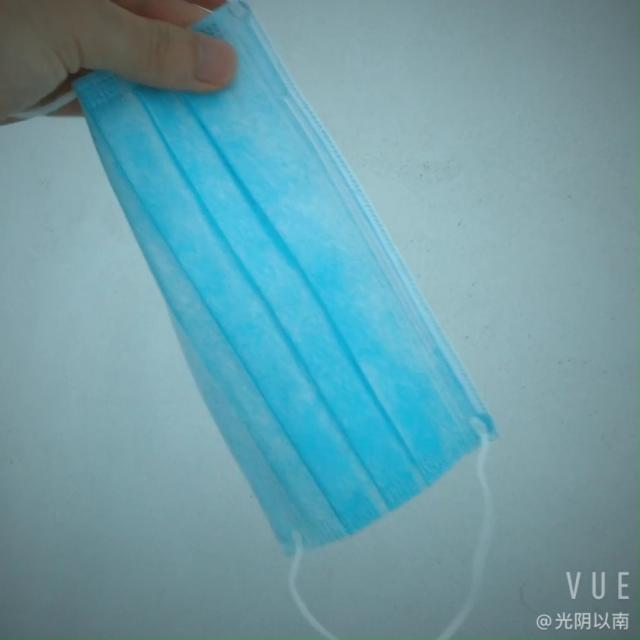non-organic waste: (98, 2, 466, 538)
